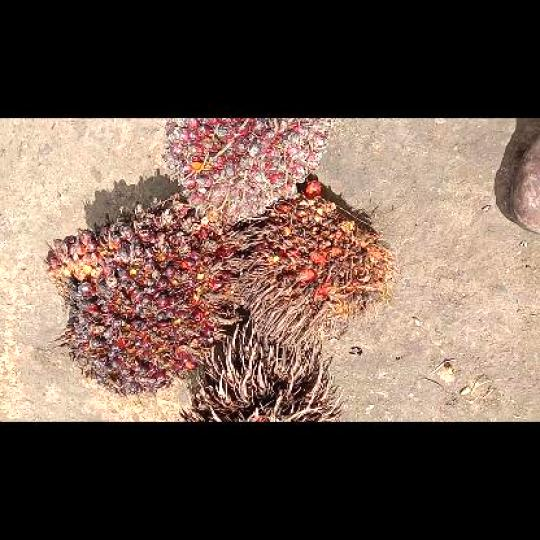kurang masak: (158, 118, 335, 225)
masak: (41, 194, 239, 398)
terlalu masak: (234, 180, 402, 350)
